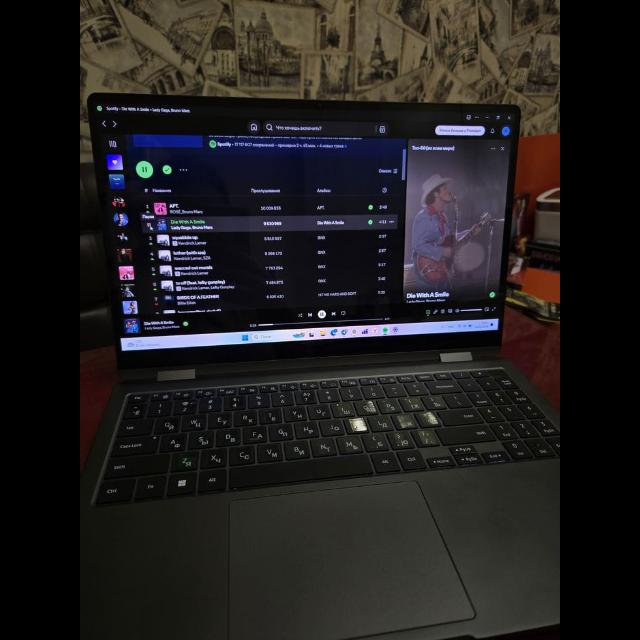laptop: (84, 86, 560, 640)
